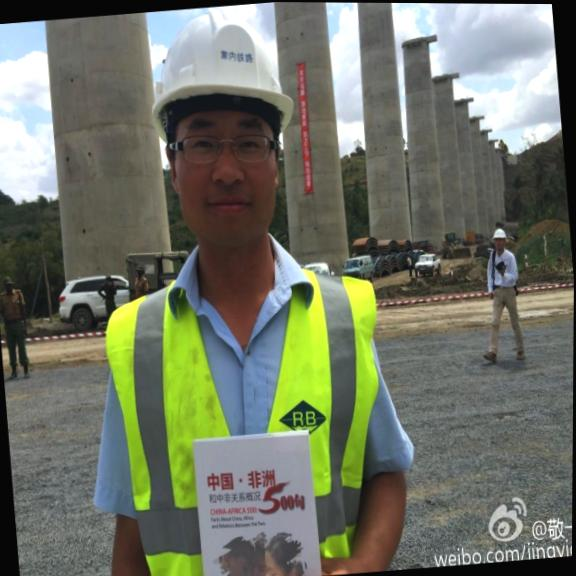safety_vest: (95, 266, 404, 576)
